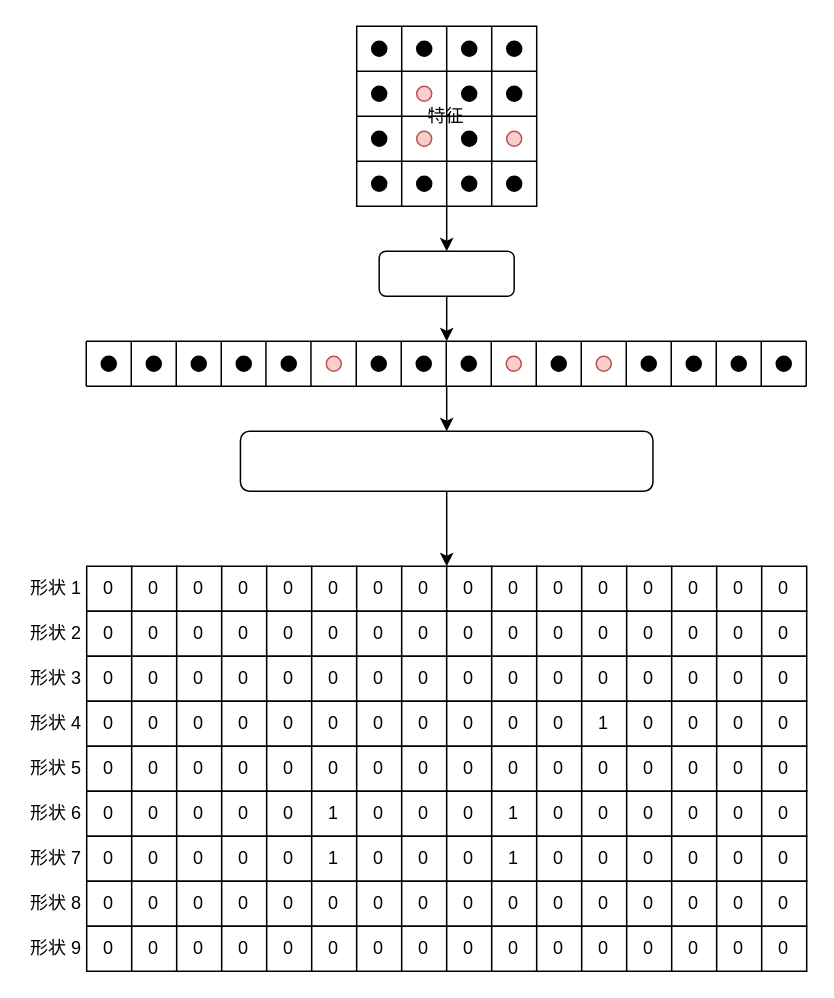
This 834x998 diagram has some shape labels left out. The centre of each missing label's shape, as x and y in pixels:
扁平化: point (446, 273)
线性模型 判断各个锚点所在的区域的各个形状是否包含对象: point (446, 460)
